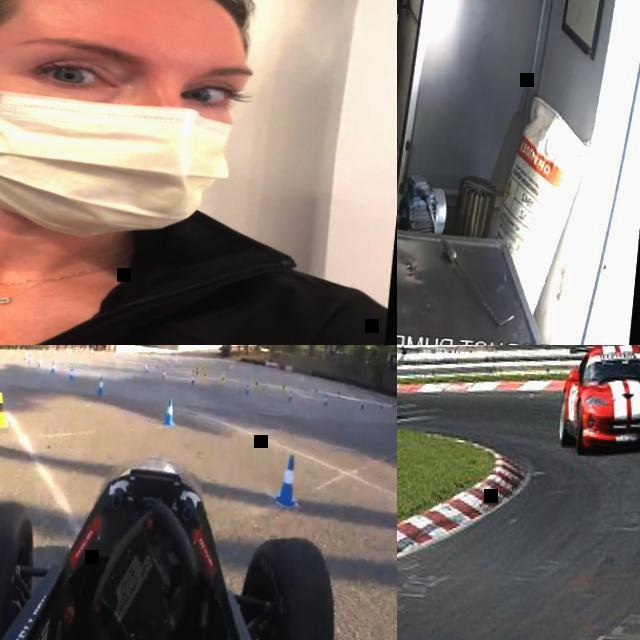mask: (0, 53, 244, 249)
no_helmet: (0, 0, 255, 38)
no_vest: (0, 209, 351, 345)
person: (0, 0, 397, 345)
safety_cone: (274, 448, 306, 514), (162, 391, 179, 428), (0, 389, 12, 433), (96, 371, 107, 398), (68, 362, 76, 384), (244, 381, 250, 398), (288, 388, 294, 404), (221, 372, 227, 386), (325, 392, 330, 408), (52, 361, 58, 374)
vehicle: (0, 434, 382, 640), (557, 345, 640, 461)
